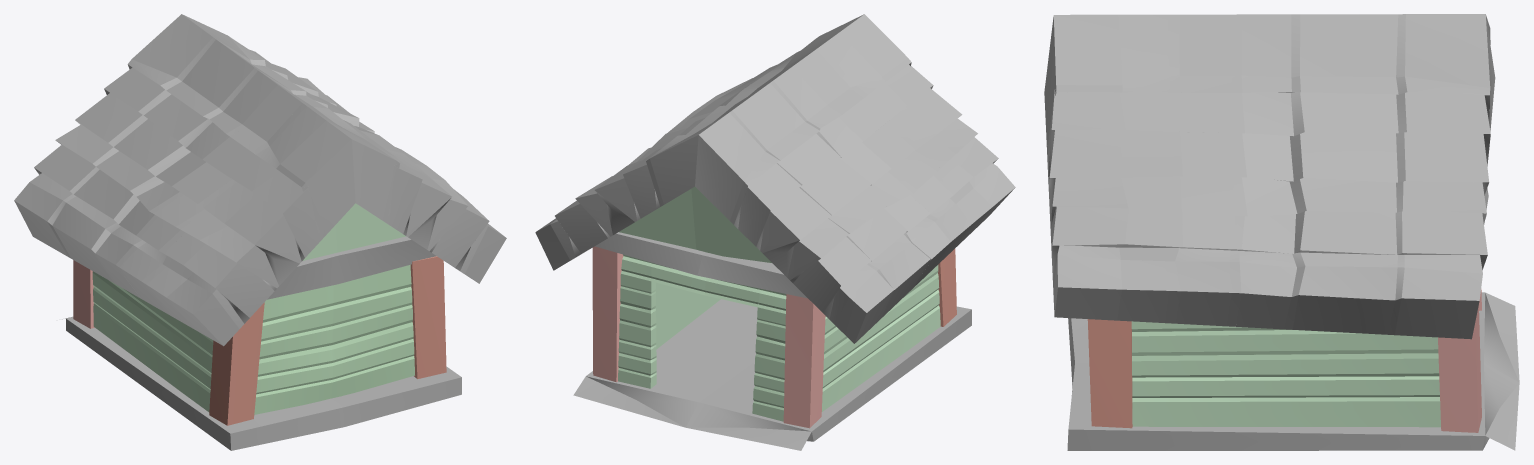
File: Garage .glb
3 views of the same model, side by side, from view 1: azimuth 30°, elevation 25°; view 2: azimuth 150°, elevation 25°; view 3: azimuth 270°, elevation 25° (orthographic). The views are drawn at different scales.
Parts seen in each view (by area): view 1: garage; view 2: garage; view 3: garage.
Boxes of the visible parts, x1,y1,x2,y2 form: garage: (14, 14, 506, 450); garage: (535, 14, 1015, 450); garage: (1044, 14, 1519, 450).
Size of what is drawn, in the model's own units: 20.44 by 16.88 by 19.51.
